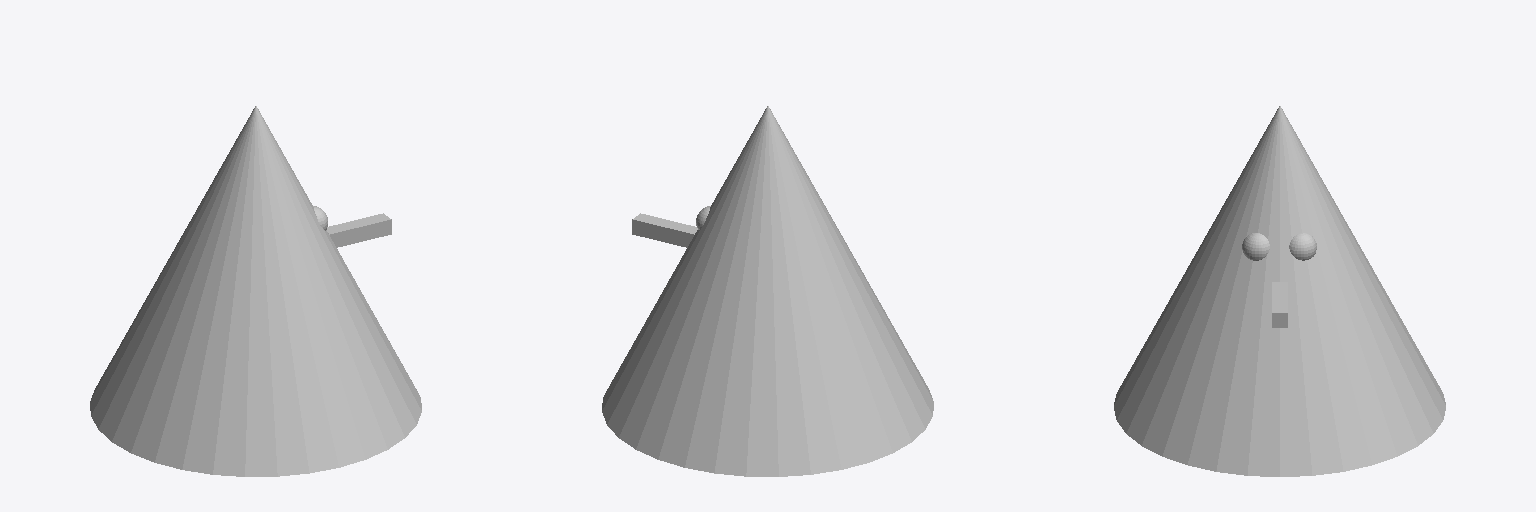
Rendered from conete.obj.
3 renders of one model, left to right at view 1: azimuth 30°, elevation 25°; view 2: azimuth 150°, elevation 25°; view 3: azimuth 270°, elevation 25°, orthographic.
Visible parts, largest first — view 1: Cone, Cube; view 2: Cone, Cube; view 3: Cone, Cube, Sphere, Sphere.001.
Boxes of the visible parts, <box> form: Cone: <box>90,106,421,476</box>; Cube: <box>327,213,391,247</box>; Cone: <box>602,106,933,476</box>; Cube: <box>632,213,697,247</box>; Cone: <box>1114,106,1445,476</box>; Cube: <box>1272,282,1287,327</box>; Sphere: <box>1242,233,1269,260</box>; Sphere.001: <box>1289,233,1316,260</box>.
Size of the model in its own units: 40 by 40 by 40.